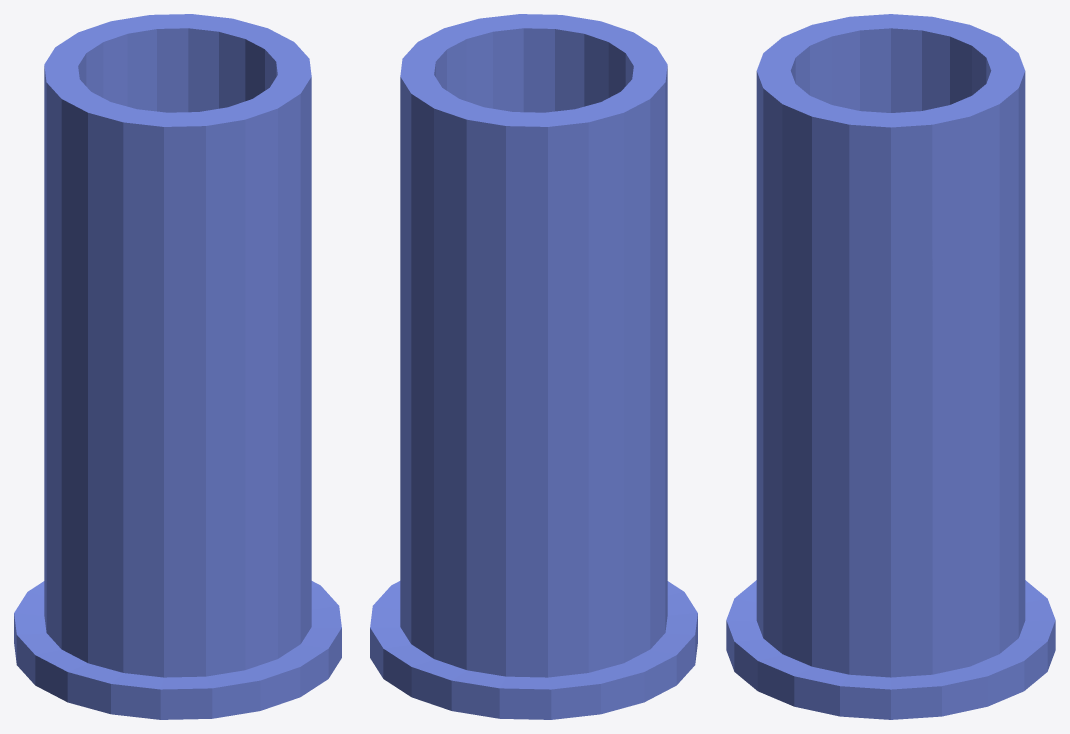
Rendered from pipe.fbx.
3 views of the same model, side by side, from view 1: azimuth 30°, elevation 25°; view 2: azimuth 150°, elevation 25°; view 3: azimuth 270°, elevation 25° (orthographic).
Visible parts, largest first — view 1: Cylinder; view 2: Cylinder; view 3: Cylinder.
Boxes of the visible parts, x1,y1,x2,y2 form: Cylinder: [14, 14, 341, 719]; Cylinder: [370, 14, 697, 719]; Cylinder: [726, 14, 1055, 719].
Bounding box in the file's own units: 245 × 476 × 245.
